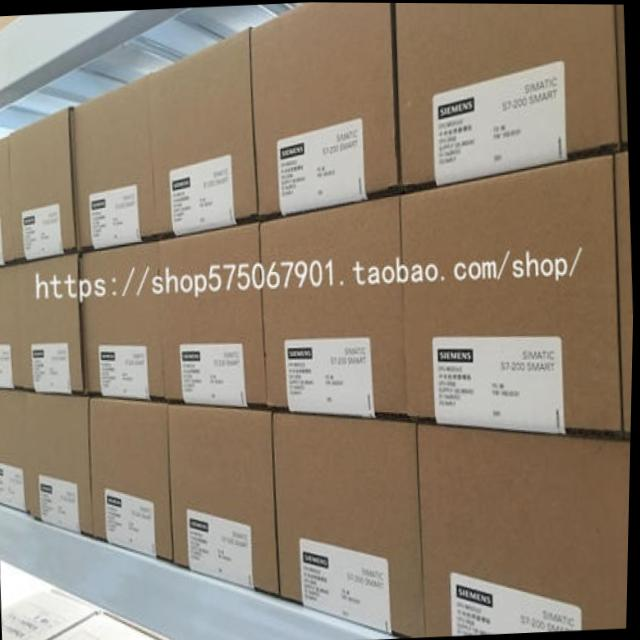box: (400, 152, 625, 441), (420, 420, 632, 637), (394, 2, 622, 192), (274, 412, 428, 637), (260, 192, 408, 419), (252, 2, 401, 223), (149, 25, 260, 241), (170, 403, 282, 597), (157, 223, 270, 410), (72, 74, 156, 255), (91, 396, 175, 563), (80, 241, 167, 401), (8, 107, 79, 265), (23, 391, 96, 536), (21, 253, 86, 395), (0, 389, 30, 514), (0, 263, 23, 390), (0, 137, 15, 264)
